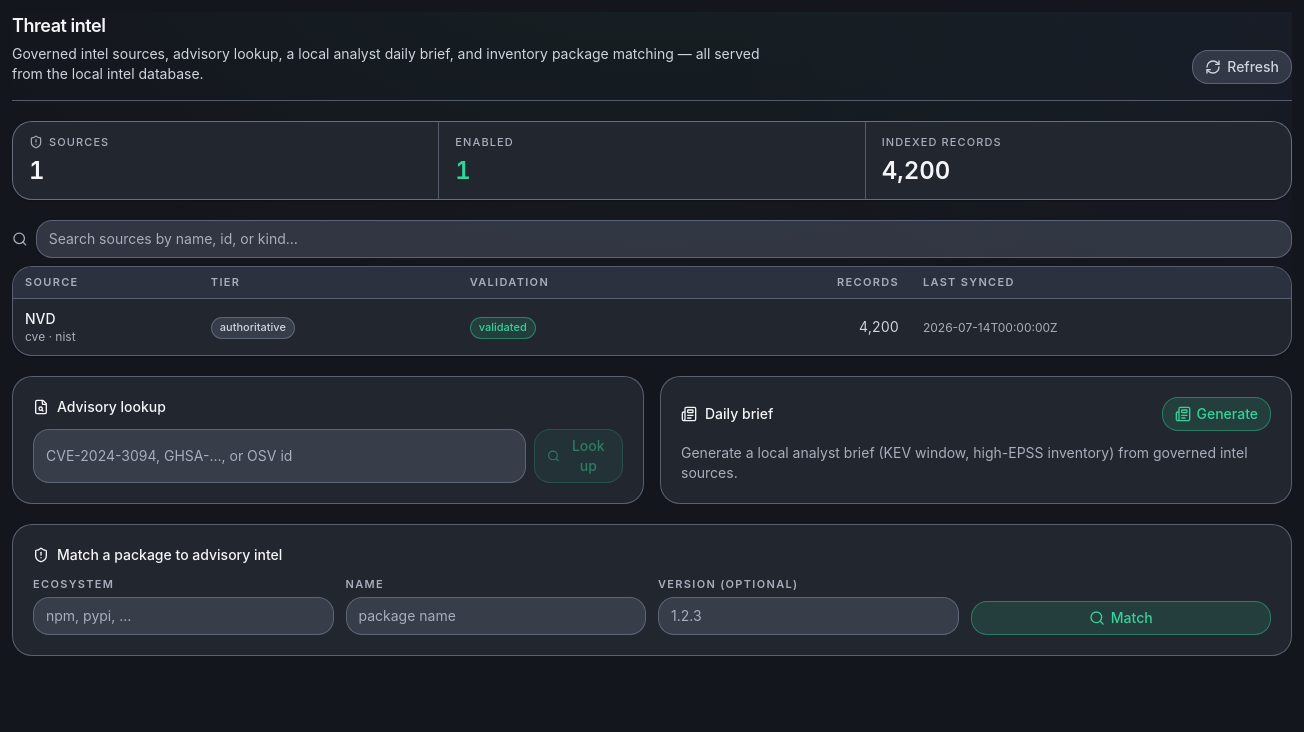
Test: IntelPanel › matches a package against advisory intel
The width and height of the screenshot is (1304, 732).
Expected: the text "NVD" is shown, [25,310,56,327]
In the field with test id "intel-match-ecosystem": {"x": 183, "y": 616} [33,597,334,635], type "npm"
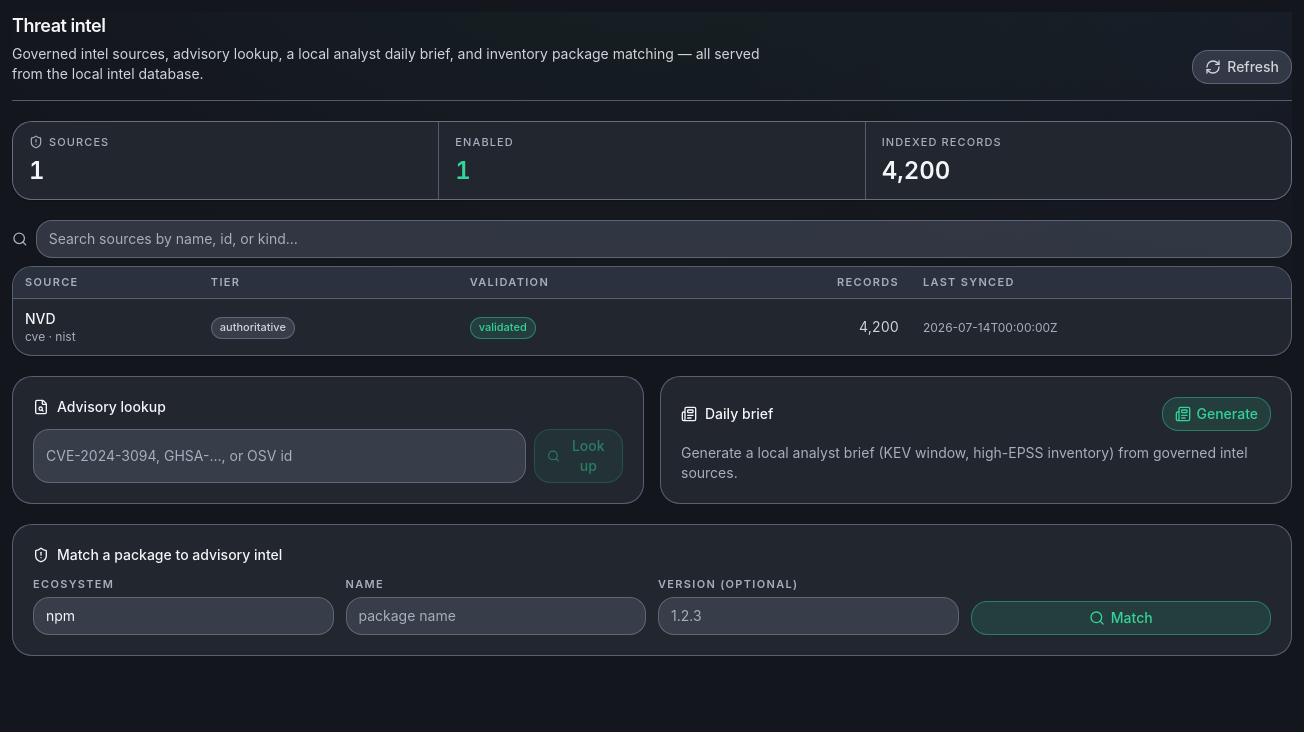
In the field with test id "intel-match-name": {"x": 496, "y": 616} [346,597,646,635], type "left-pad"
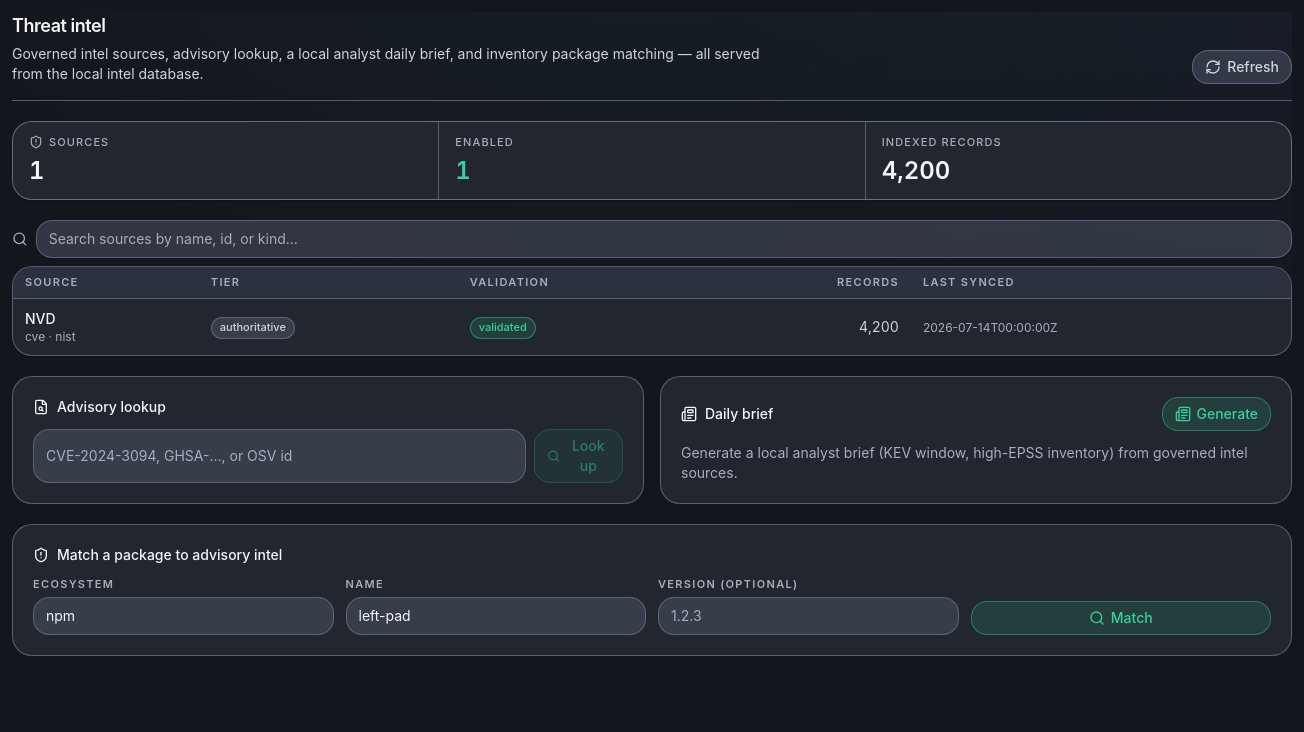
Click the button with test id "intel-match-submit": {"x": 1121, "y": 618} [970,601,1271,635]
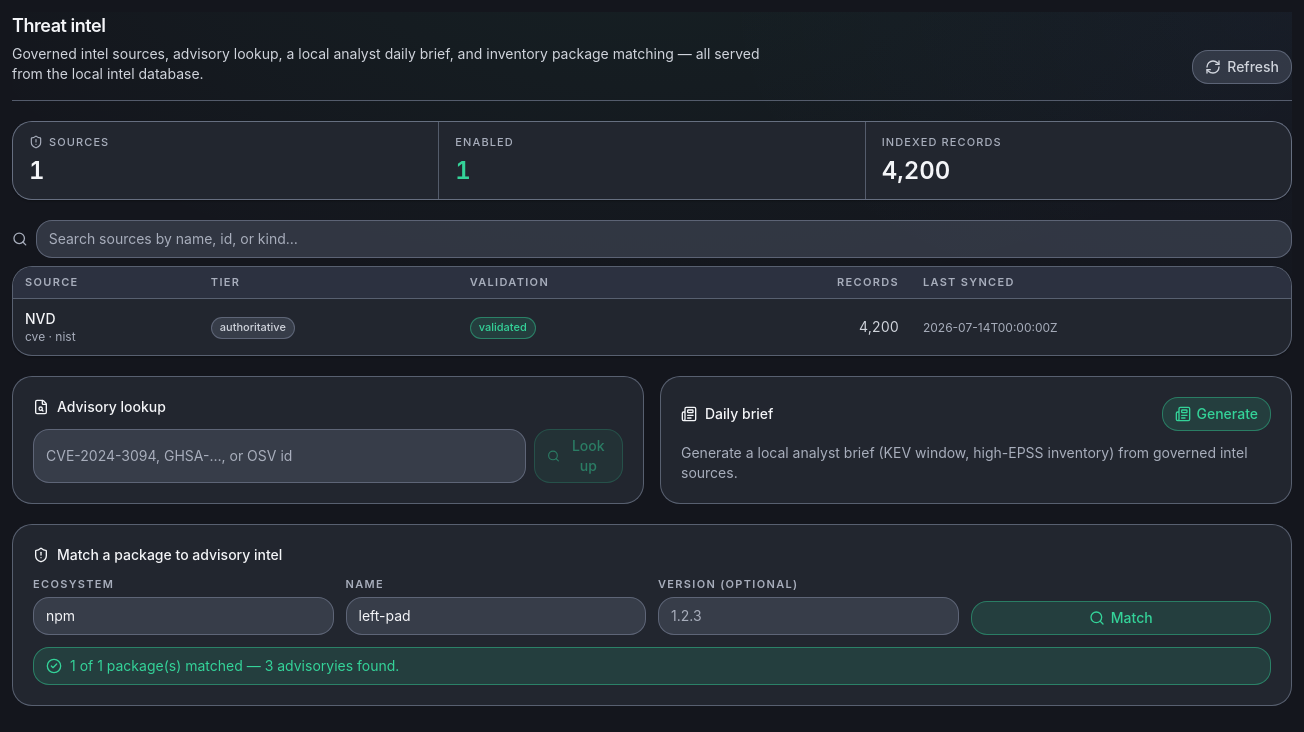
Result: the message with test id "intel-match-result" shows "3 advisor" at [33,647,1271,685]
